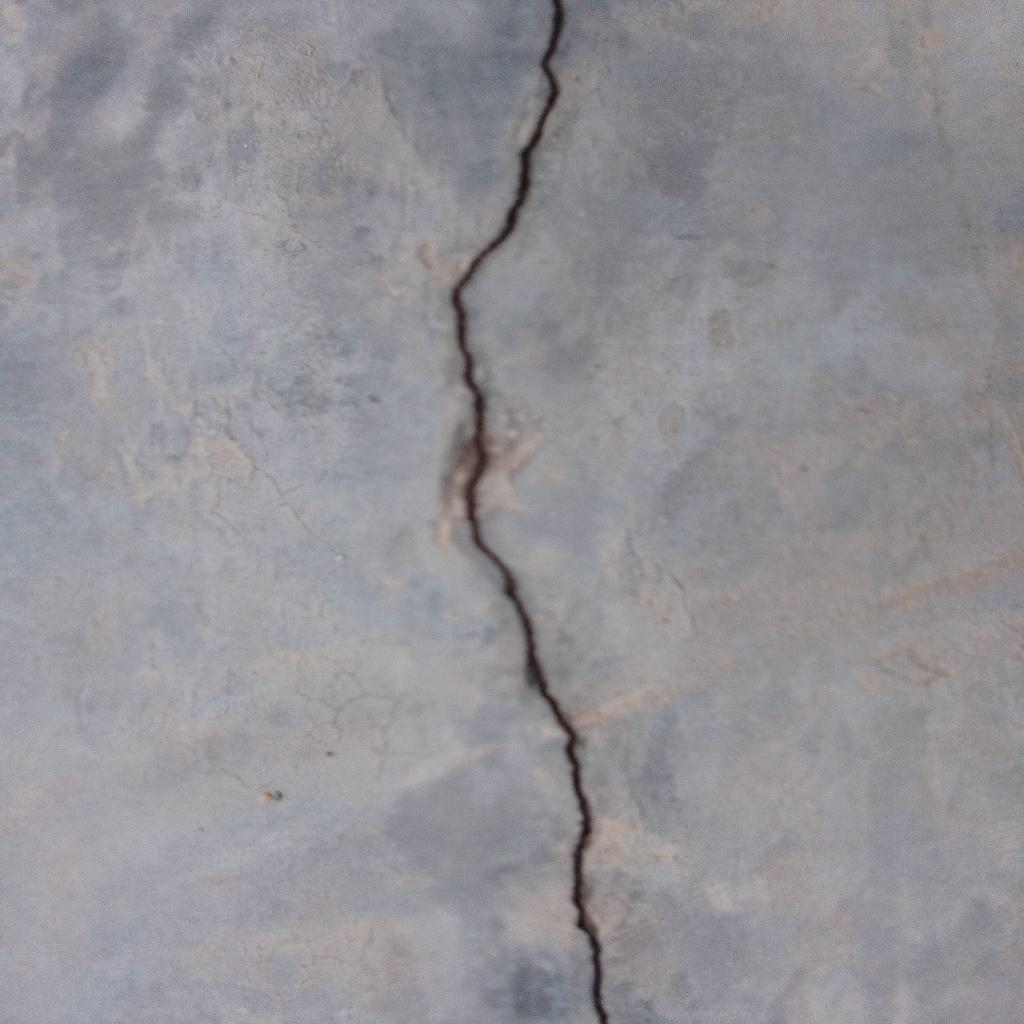Crack: (453, 1, 610, 1024)
